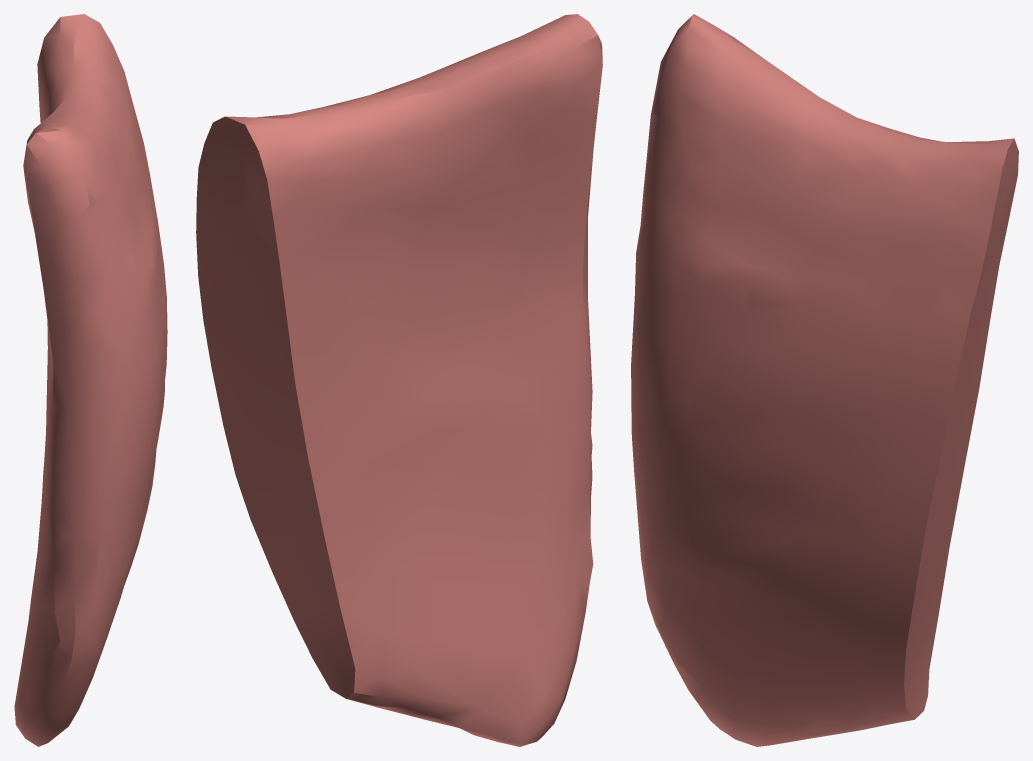
Rendered from fma54479-f_mm2212m.glb.
The picture shows the model from 3 angles, left to right: view 1: azimuth 30°, elevation 25°; view 2: azimuth 150°, elevation 25°; view 3: azimuth 270°, elevation 25°; orthographic projection. The views are drawn at different scales.
Parts seen in each view (by area): view 1: FMA54479-F_MM2212M; view 2: FMA54479-F_MM2212M; view 3: FMA54479-F_MM2212M.
Boxes of the visible parts, x1,y1,x2,y2 form: FMA54479-F_MM2212M: (14, 14, 167, 746); FMA54479-F_MM2212M: (196, 14, 602, 746); FMA54479-F_MM2212M: (631, 14, 1018, 746).
Size of the model in its own units: 0.00345 by 0.0086 by 0.0042.
